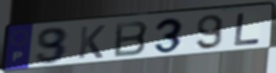3: (152, 16, 188, 56)
9: (34, 26, 71, 65), (195, 14, 225, 51)
B: (112, 20, 150, 59)
K: (76, 24, 108, 60)
L: (233, 11, 264, 47)
